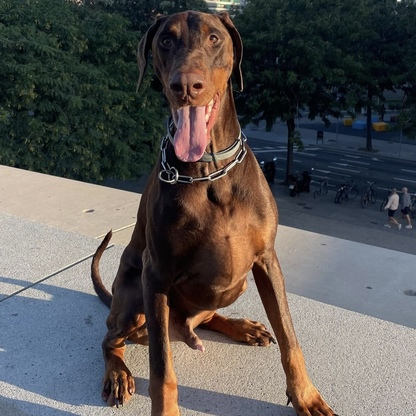doberman: (78, 8, 345, 414)
